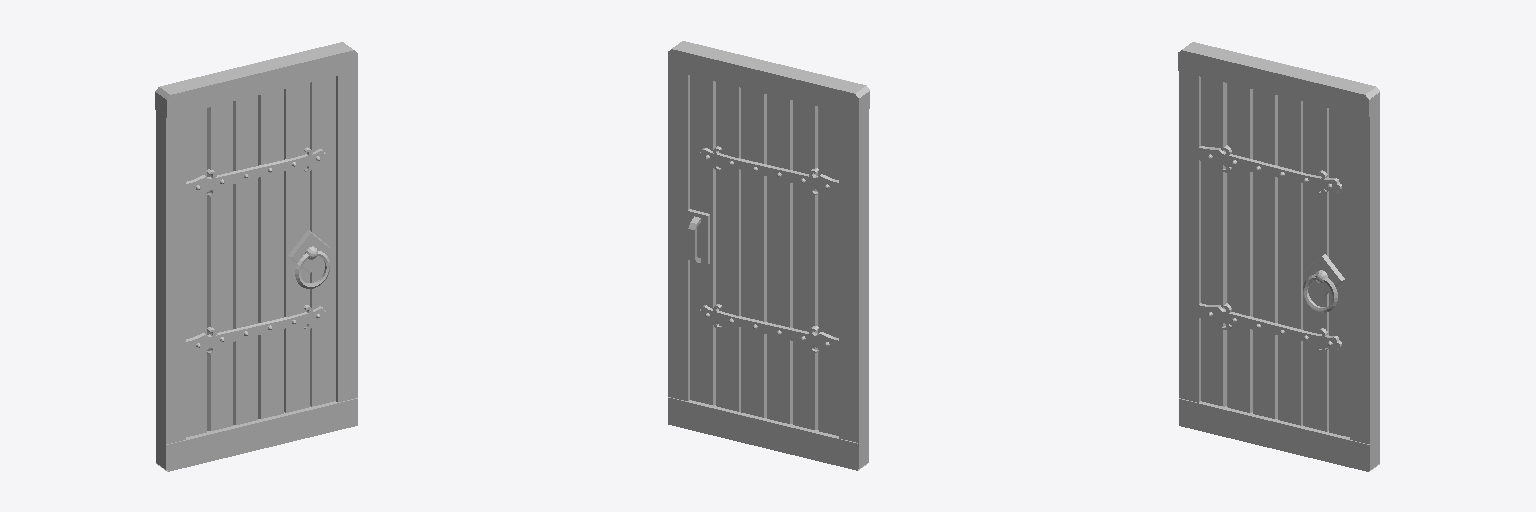
Rendered from Door_5_Flat.obj.
The picture shows the model from 3 angles: view 1: azimuth 30°, elevation 25°; view 2: azimuth 150°, elevation 25°; view 3: azimuth 330°, elevation 25°; orthographic projection.
Parts seen in each view (by area): view 1: Door_5_Flat; view 2: Door_5_Flat; view 3: Door_5_Flat.
Part boxes in pixels (x1,y1,x2,y2): Door_5_Flat: (155,42,357,471); Door_5_Flat: (668,41,869,470); Door_5_Flat: (1178,42,1379,471).
Bounding box in the file's own units: 1.12 × 2.1 × 0.1995.